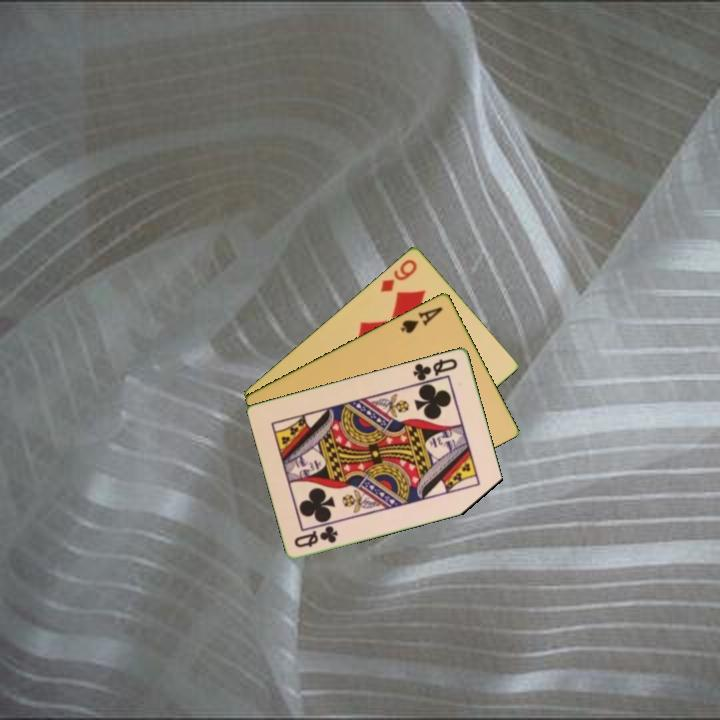9d: (377, 255, 420, 295)
As: (397, 303, 446, 336)
Qc: (409, 354, 461, 384), (291, 522, 341, 550)
